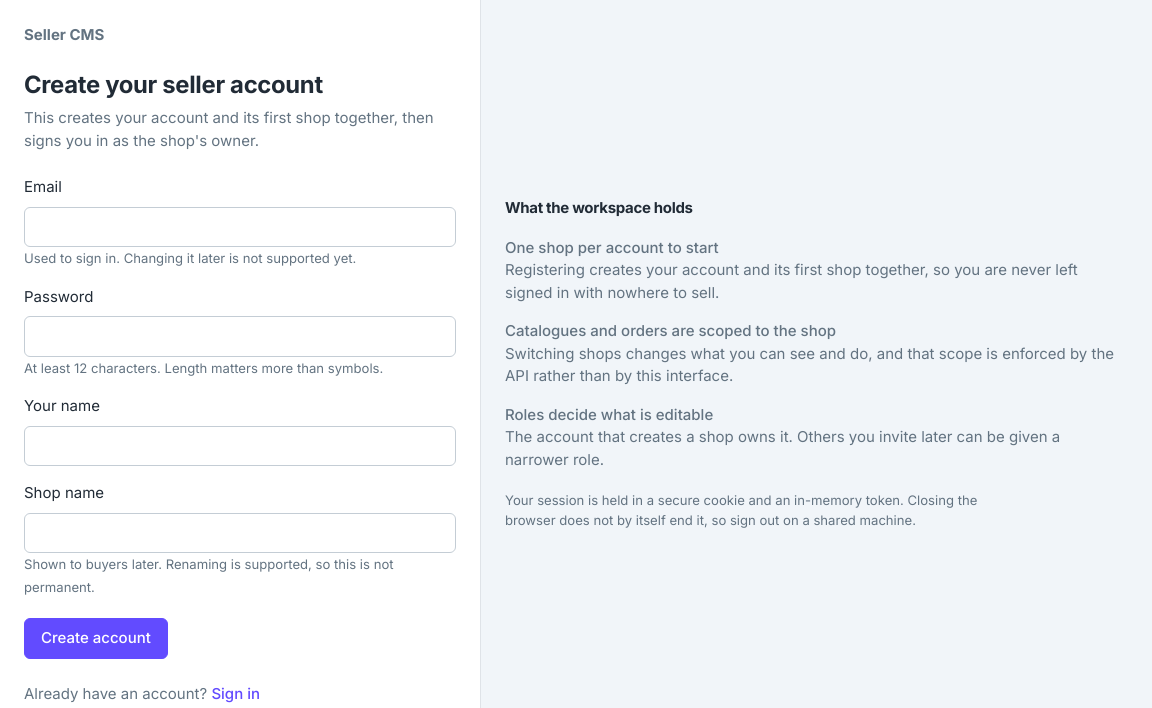
it: register form › reports a short password before any request is made
Type "seller@example.com" into the field labelled "Email".
click(240, 227); type("seller@example.com")  # box [24,207,456,247]
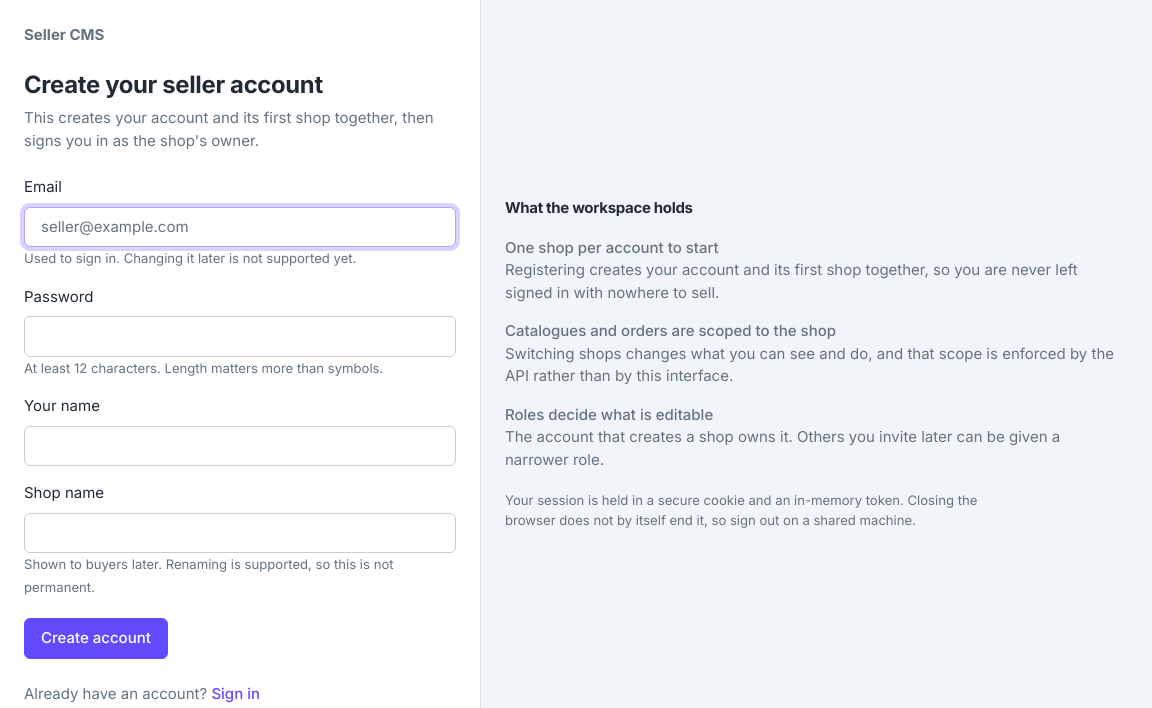
Type "elevenchars" into the password field labelled "Password".
click(240, 336); type("elevenchars")  # box [24,316,456,357]
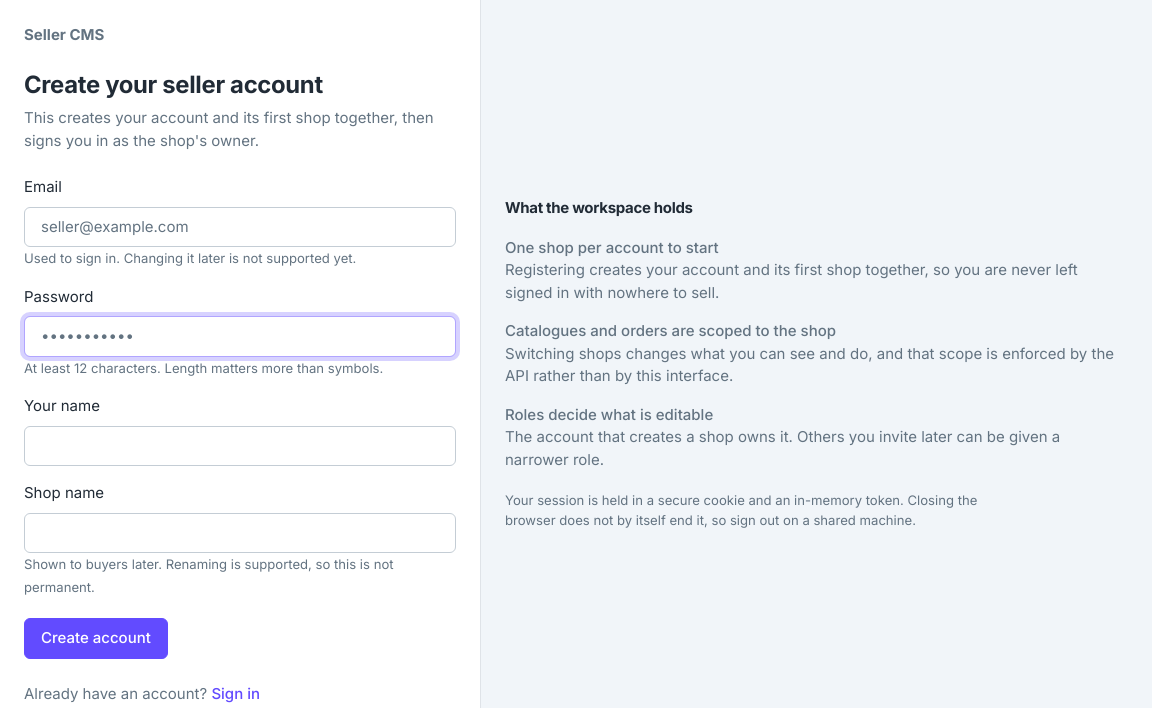
Type "Nguyen Person" into the field labelled "Your name".
click(240, 446); type("Nguyen Person")  # box [24,426,456,466]
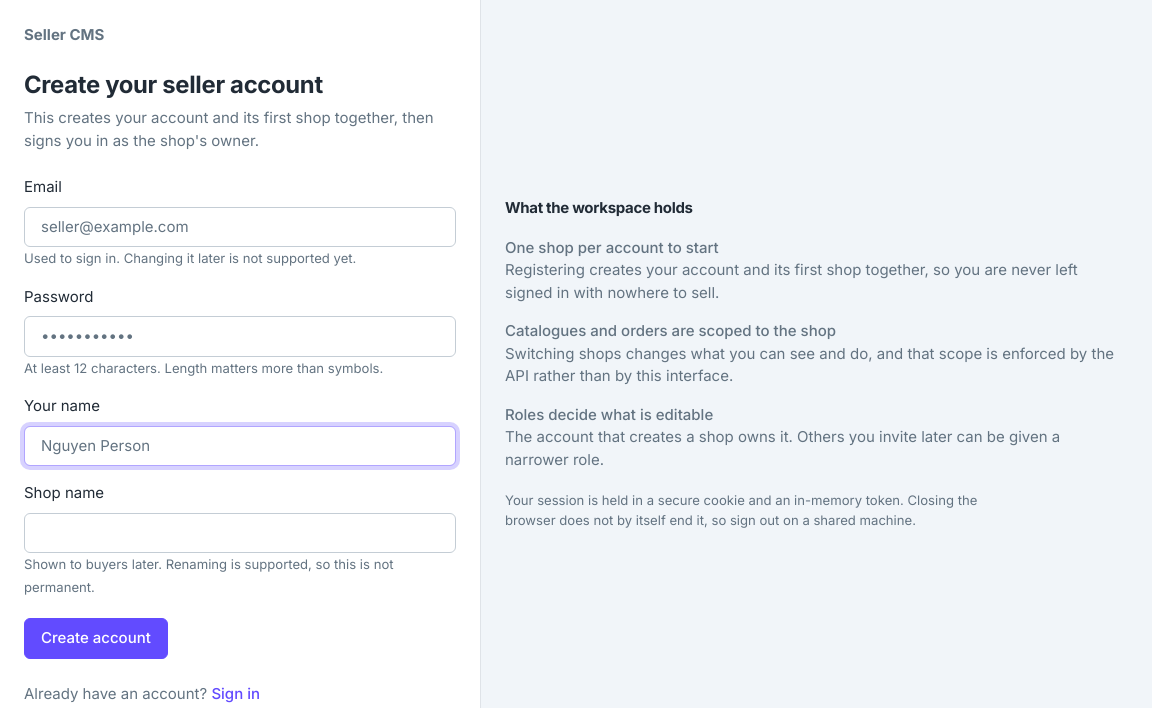
Type "Hoang Goods" into the field labelled "Shop name".
click(240, 533); type("Hoang Goods")  # box [24,513,456,553]
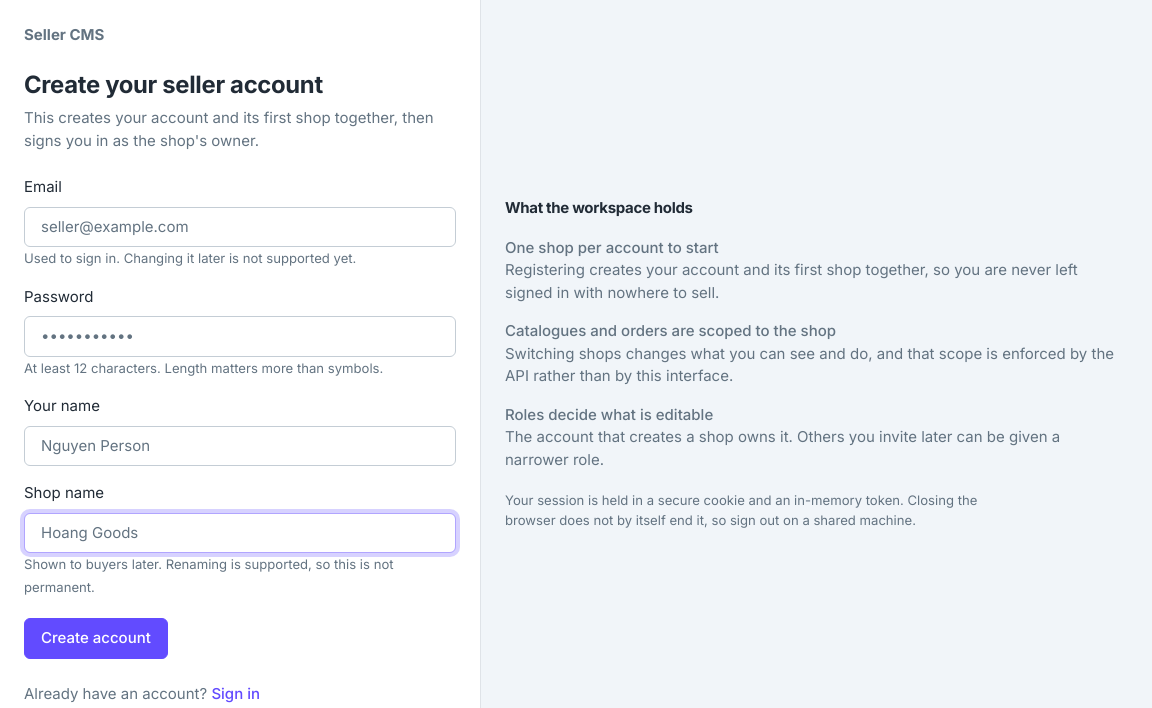
Click the button "Create account".
click(96, 638)  # box [24,618,168,659]
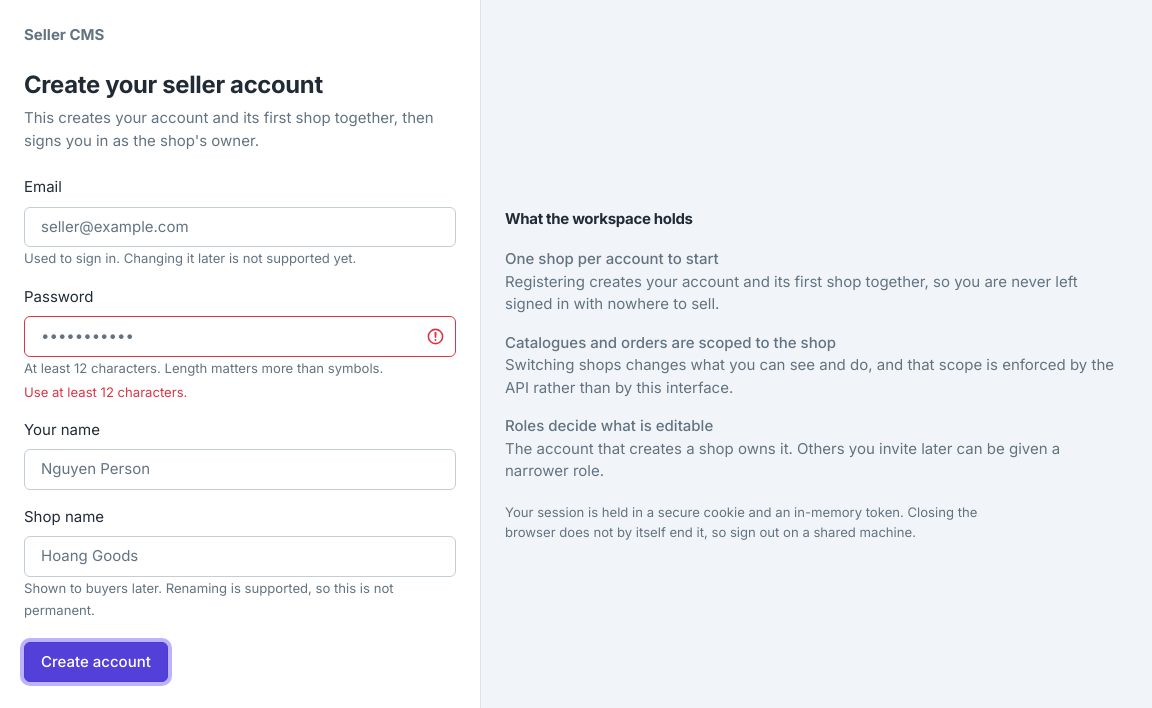
Now the text "Use at least 12 characters." is shown, box [24,384,187,400]
